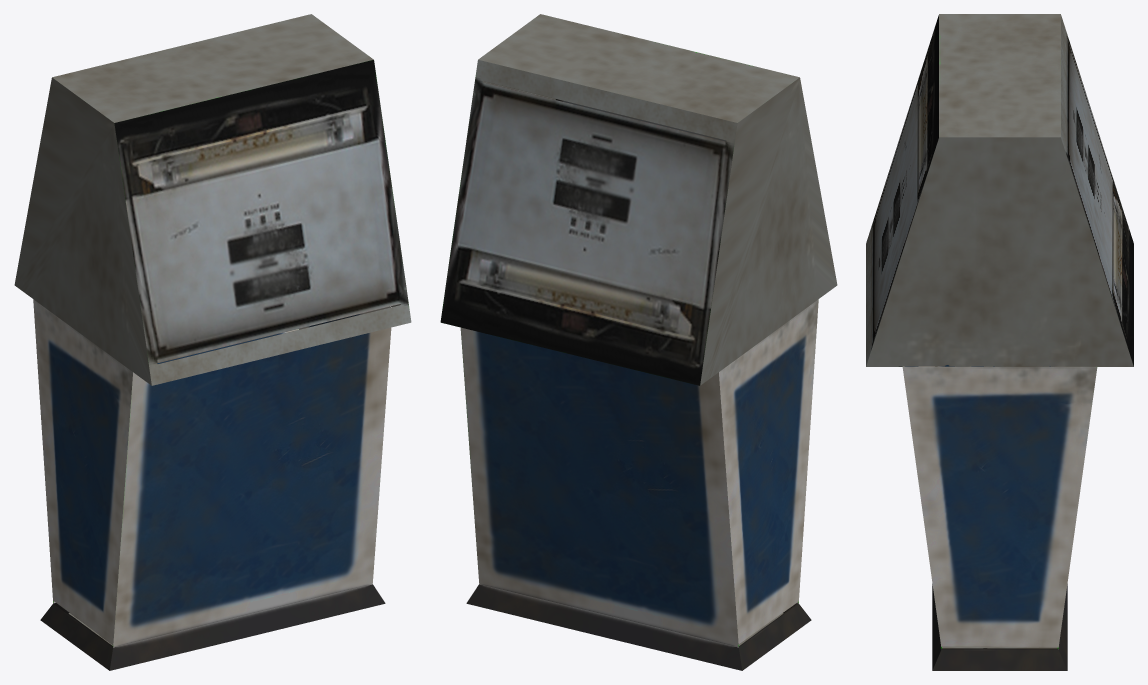
File: gas_pump.FBX
3 renders of one model, left to right at view 1: azimuth 30°, elevation 25°; view 2: azimuth 150°, elevation 25°; view 3: azimuth 270°, elevation 25°, orthographic. The views are drawn at different scales.
Visible parts, largest first — view 1: Rectangle001; view 2: Rectangle001; view 3: Rectangle001.
Part boxes in pixels (<box>): Rectangle001: <box>14,14,411,670</box>; Rectangle001: <box>440,14,837,670</box>; Rectangle001: <box>866,14,1133,670</box>.
Bounding box in the file's own units: 79.75 × 150 × 68.75.
